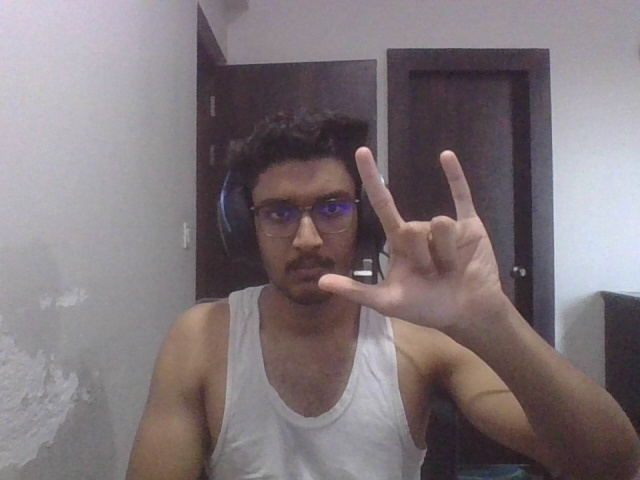I love You: (308, 143, 524, 336)
